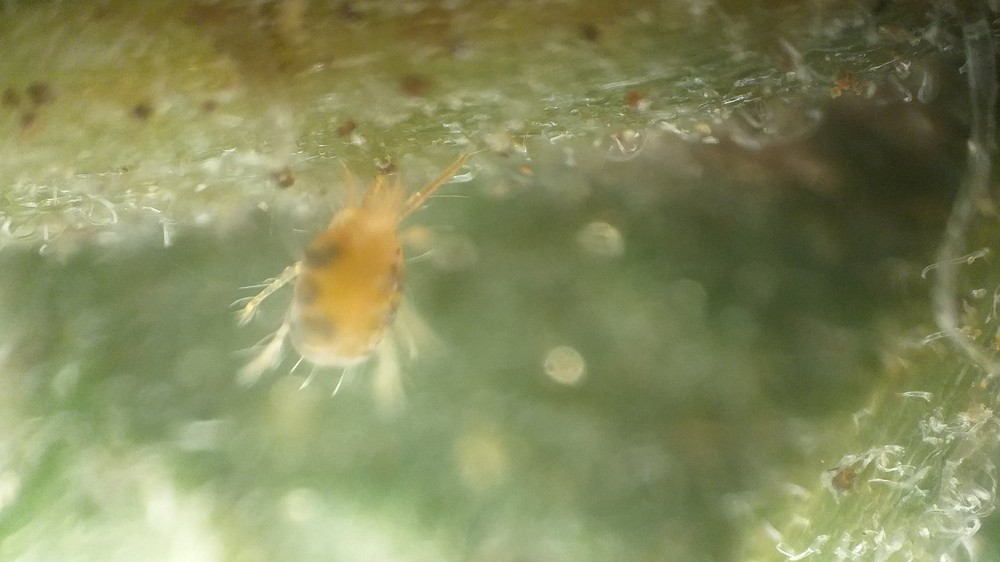Aracnido Rojo: (222, 148, 527, 418)
